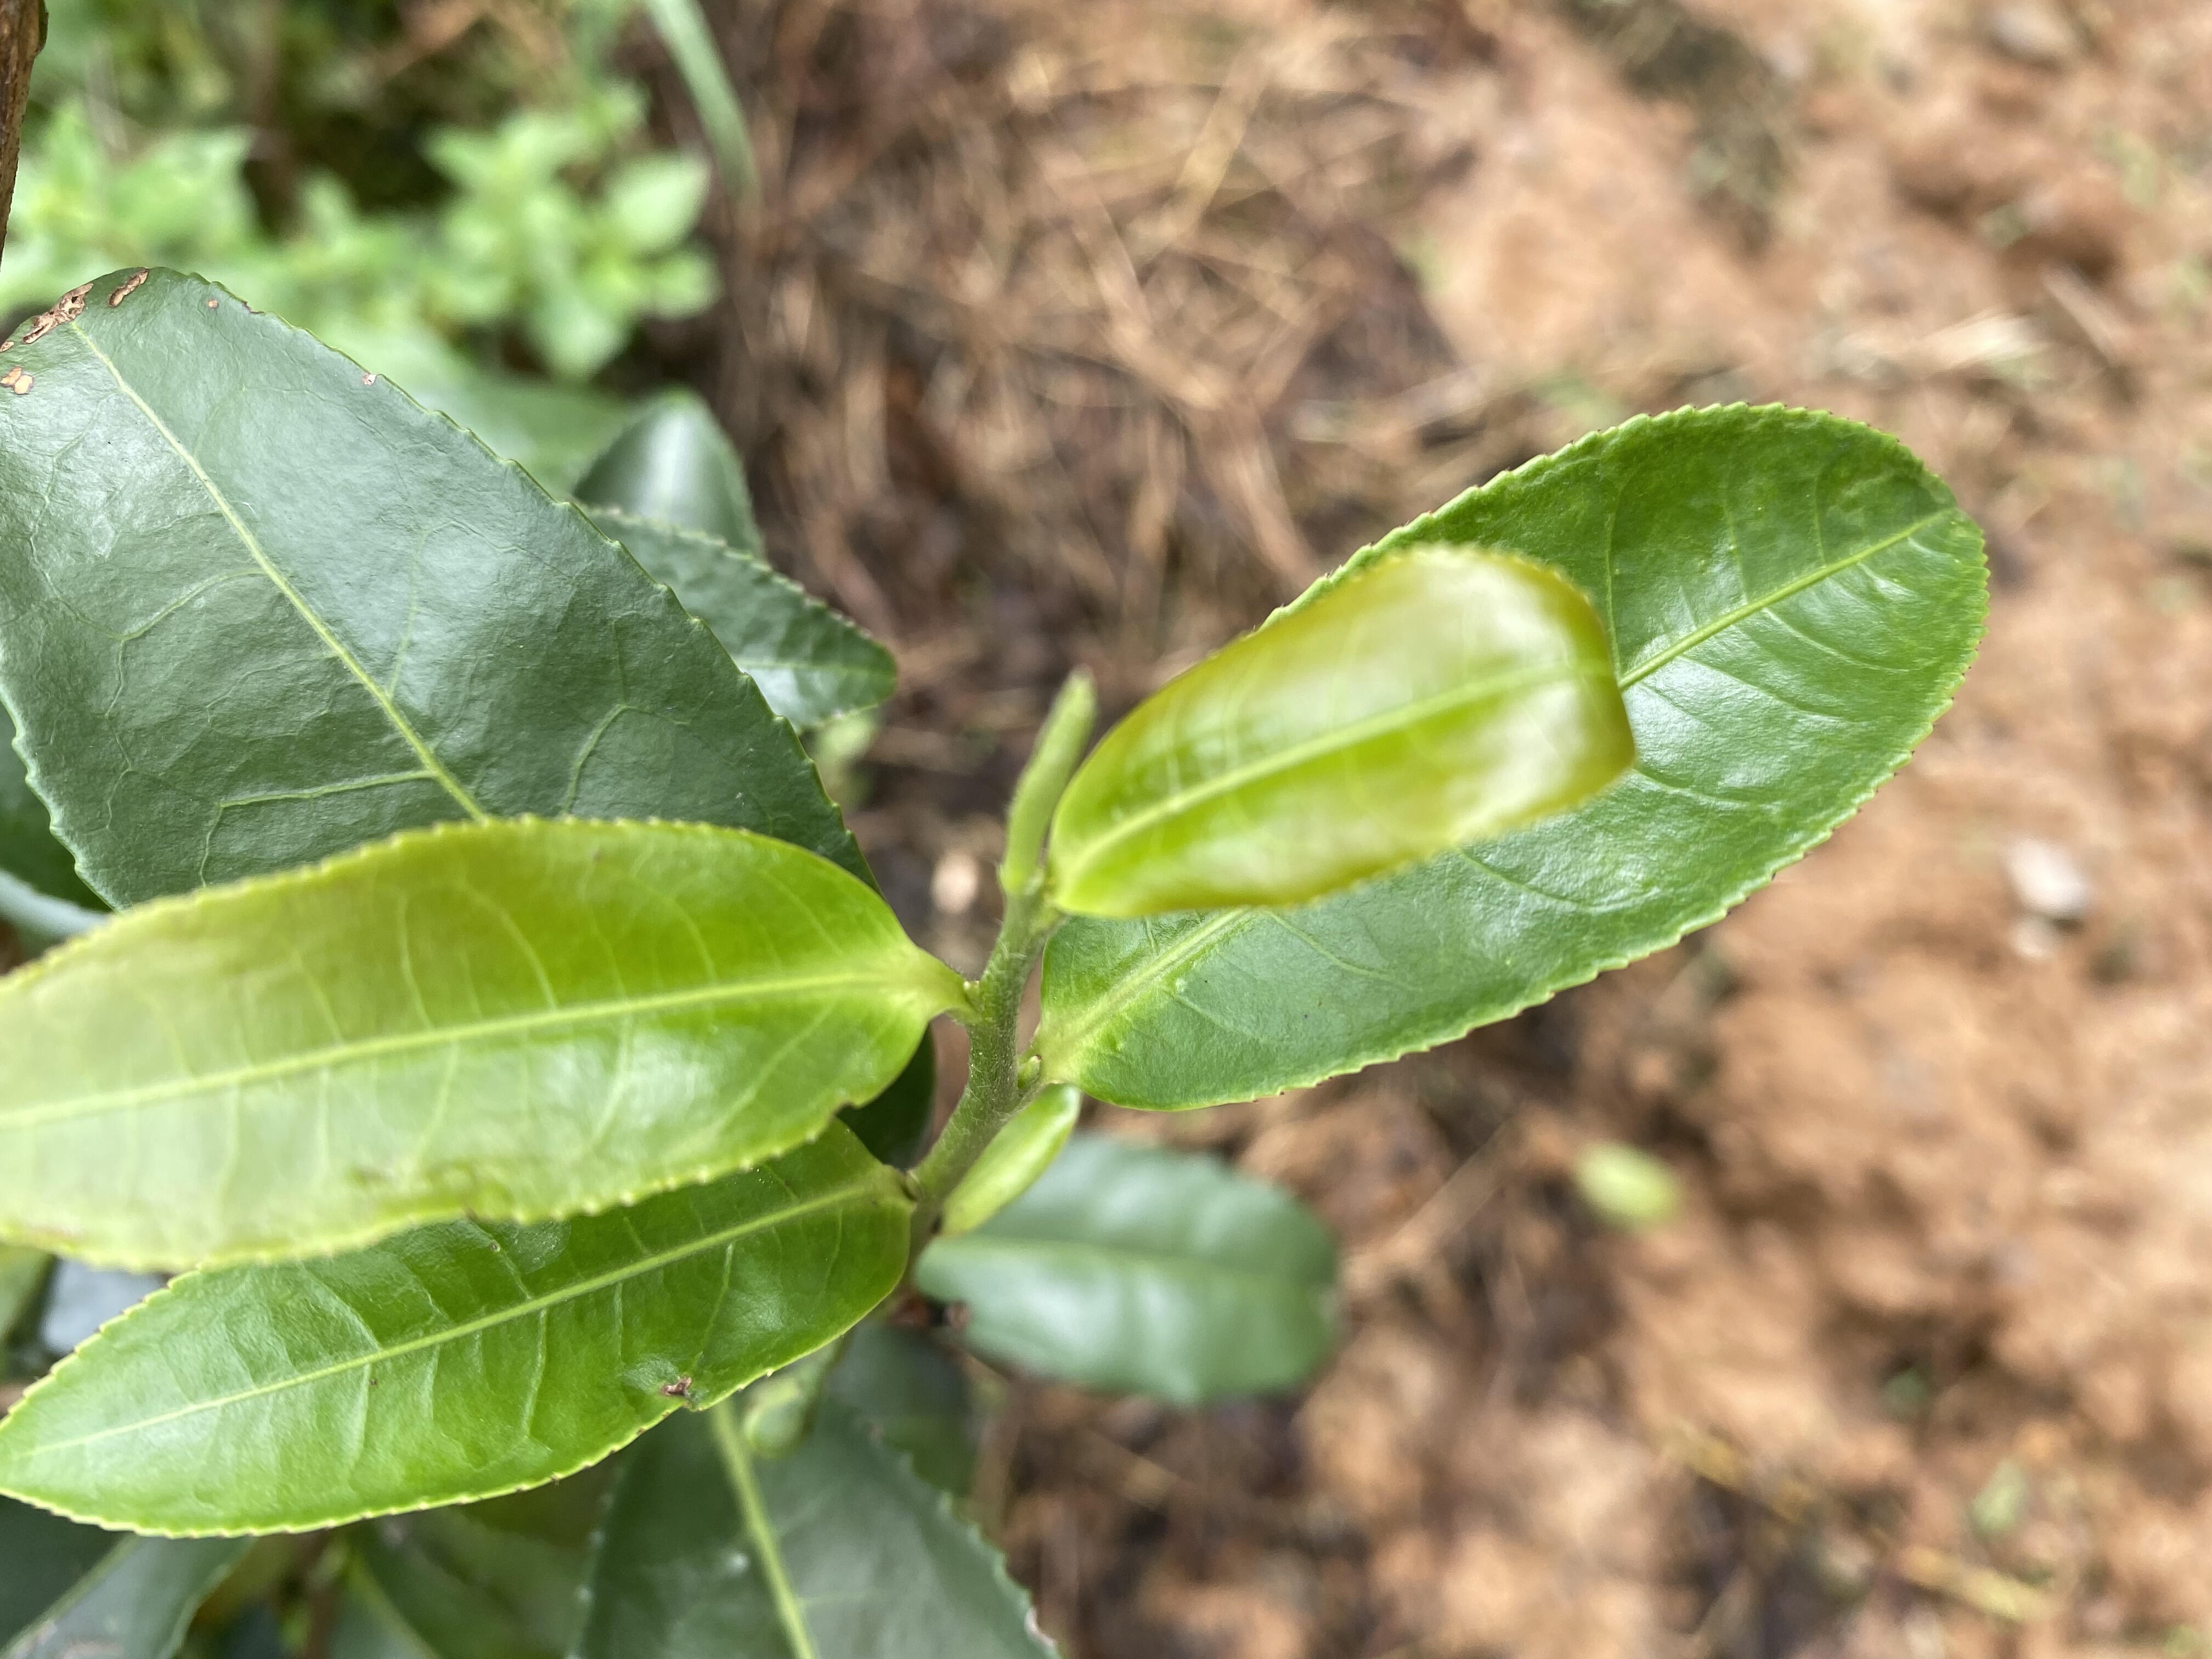healthy: (1042, 397, 1994, 1112), (5, 817, 935, 1267), (1040, 542, 1642, 922)
tanju_low: (3, 265, 892, 903), (0, 1121, 914, 1542)
